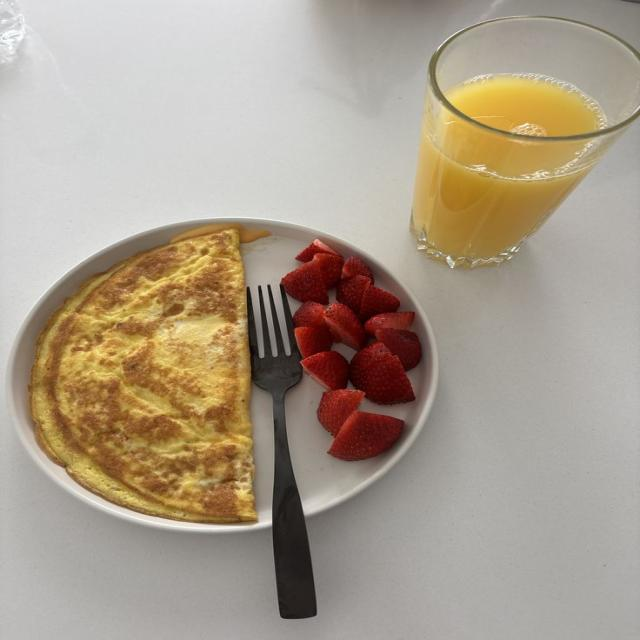omelette: (31, 229, 256, 522)
